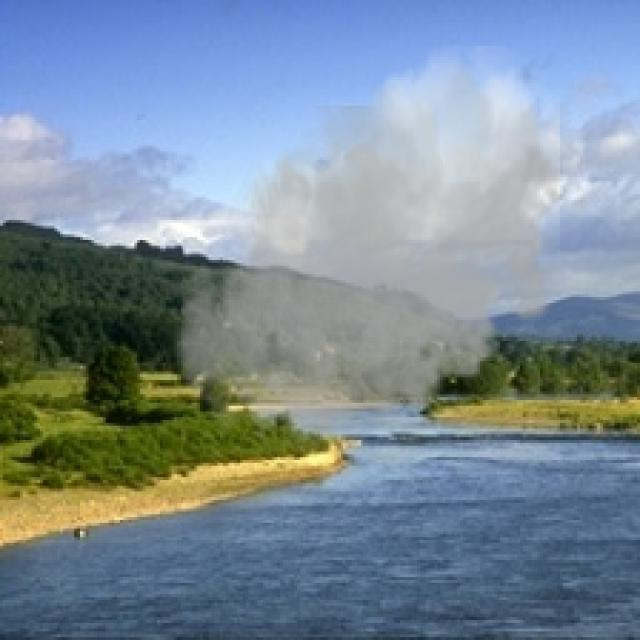Smoke: (165, 46, 578, 460)
